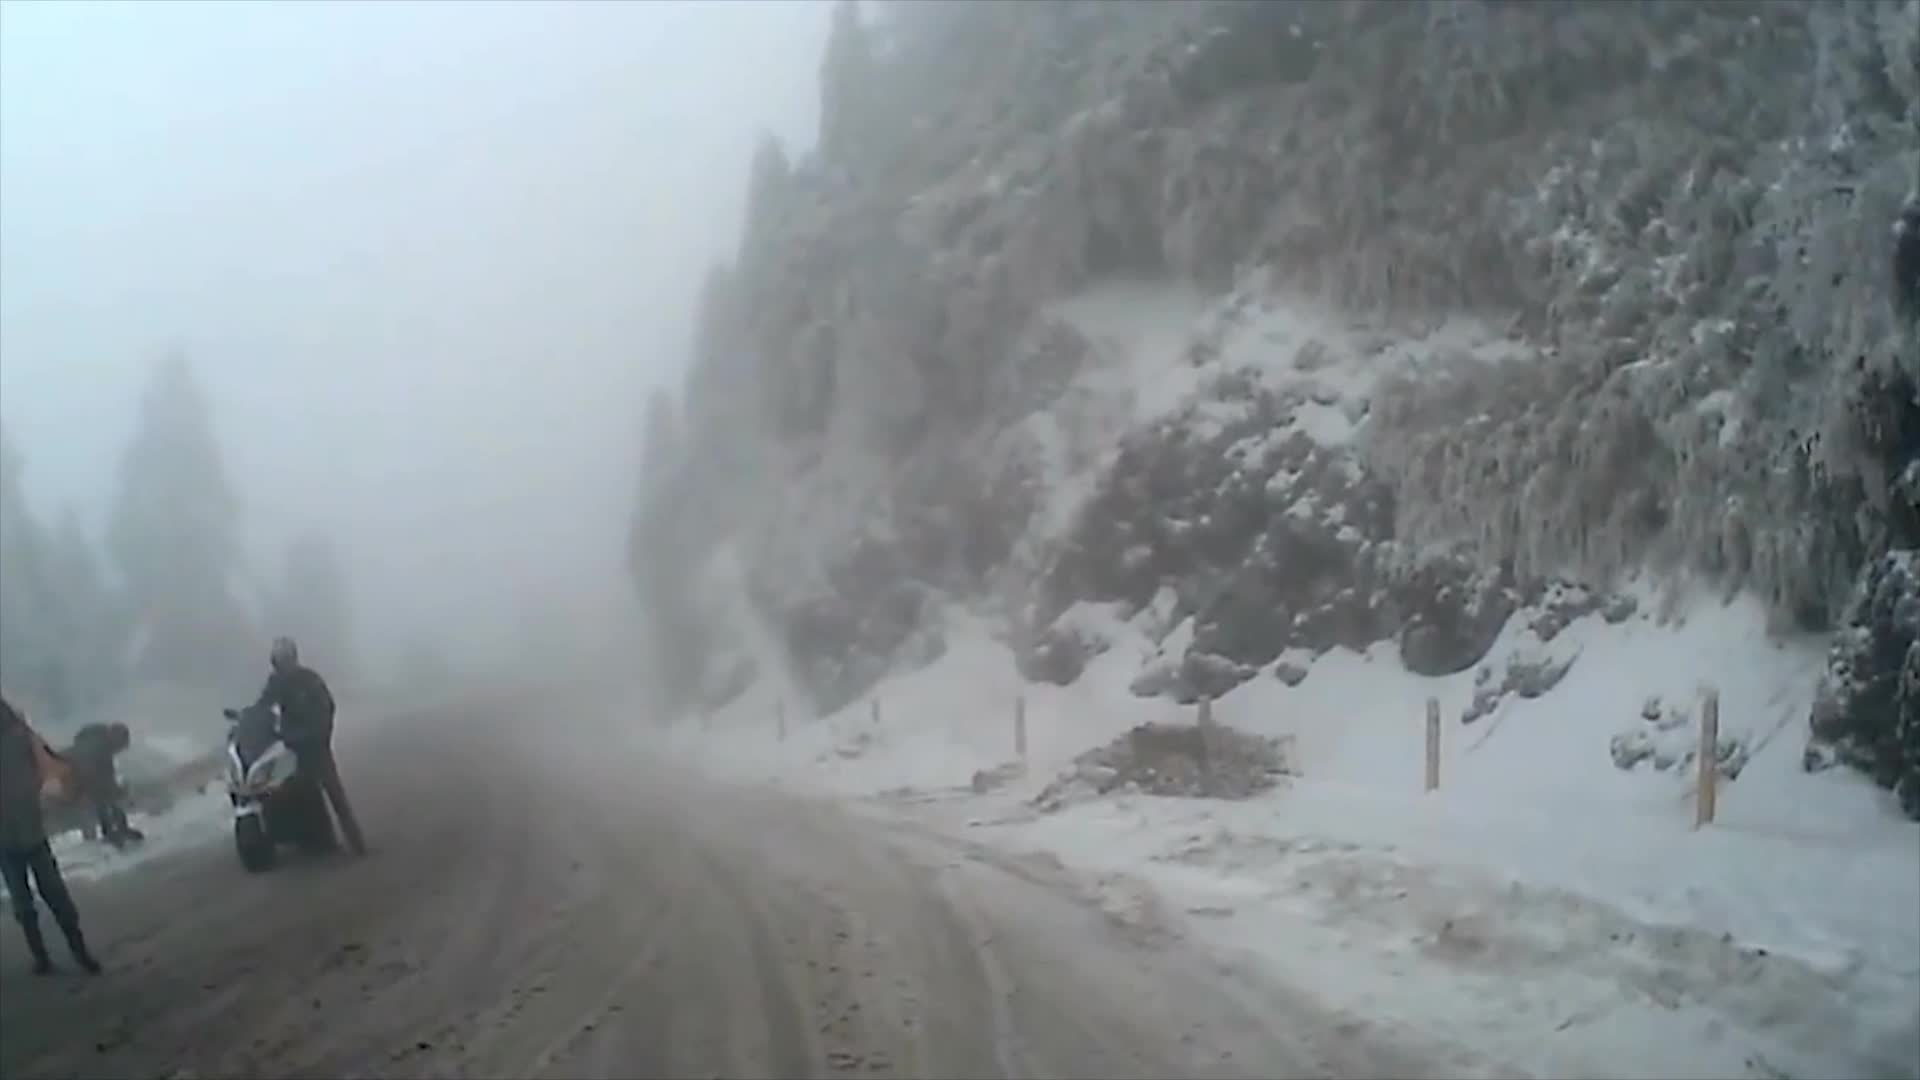pedestrian: (244, 634, 384, 870), (2, 673, 103, 975), (67, 724, 151, 850)
